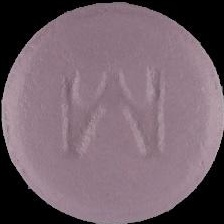0378-2405: (0, 0, 224, 224)
